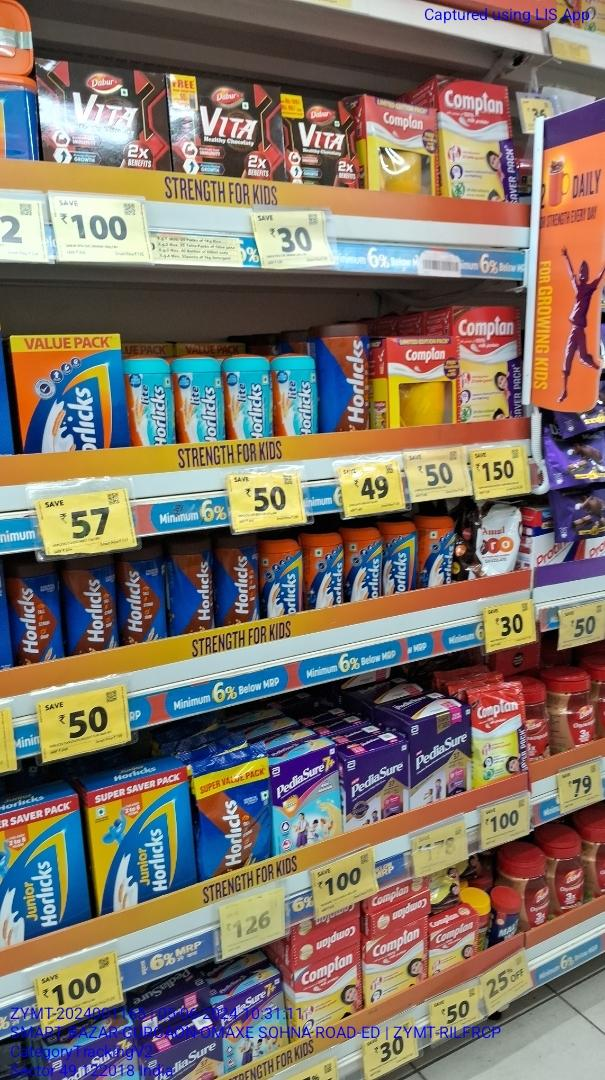HORLICKS_LITE_REGULAR_MALT_500_GM_JAR: (126, 354, 173, 445), (227, 351, 271, 442), (176, 355, 223, 440), (276, 353, 318, 443)
